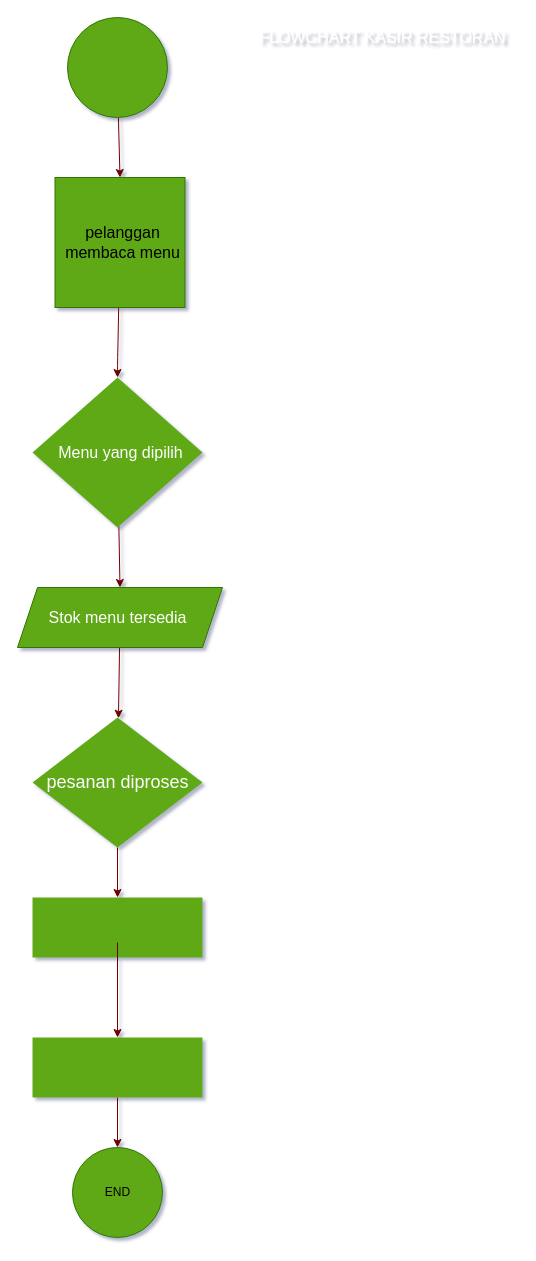
The diagram is 536 pixels wide and 1261 high, and some of its shapes have lost their labels. The centre of each missing label's shape, as x and y in pixels:
"bayar di kasir" goes at point 117,927.
"Cuctomer menerima bon" goes at point 117,1067.
"START" goes at point 117,67.
